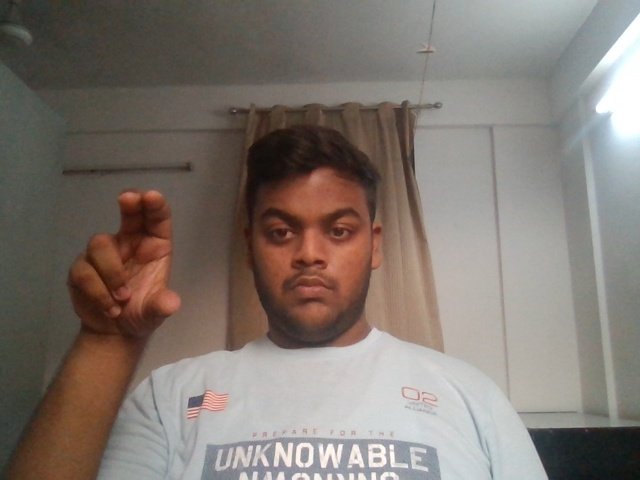No: (26, 171, 198, 399)
